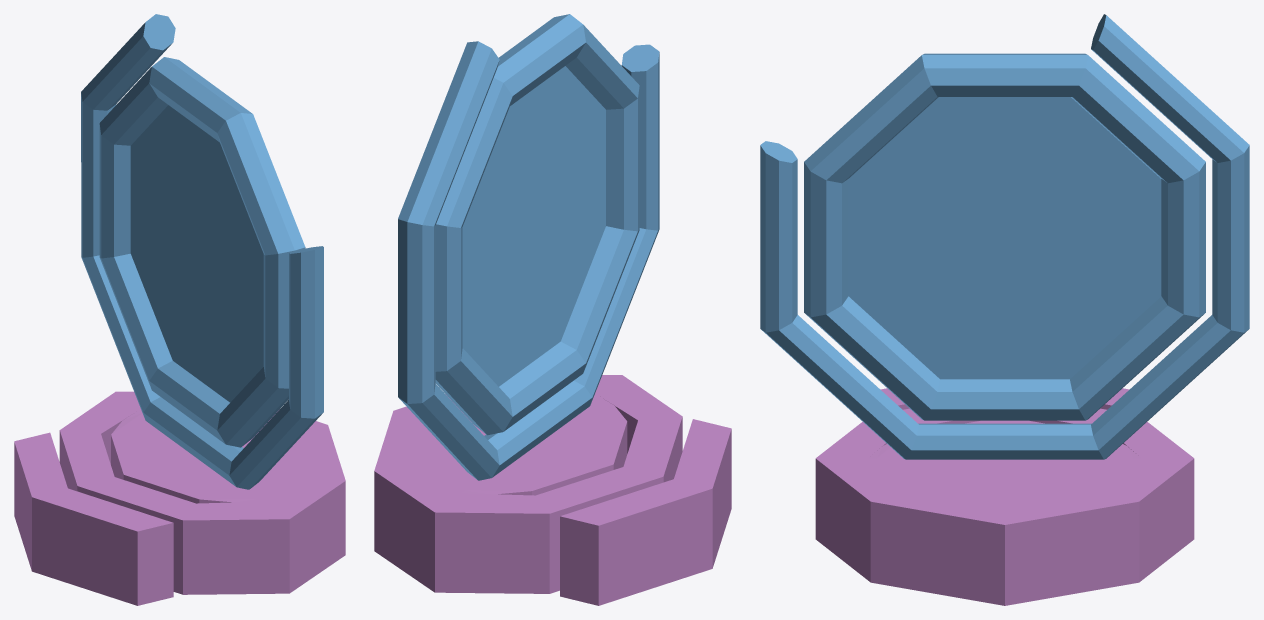
File: portal.fbx
3 renders of one model, left to right at view 1: azimuth 30°, elevation 25°; view 2: azimuth 150°, elevation 25°; view 3: azimuth 270°, elevation 25°, orthographic. The views are drawn at different scales.
Visible parts, largest first — view 1: portal, ground; view 2: portal, ground; view 3: portal, ground.
Boxes of the visible parts, box(x1,y1,x2,y2) form: portal: box(81, 14, 323, 489); ground: box(14, 391, 345, 605); portal: box(398, 14, 659, 480); ground: box(374, 375, 731, 605); portal: box(760, 14, 1249, 459); ground: box(815, 388, 1194, 605).
Bounding box in the file's own units: 3.85 × 5.06 × 5.99.
